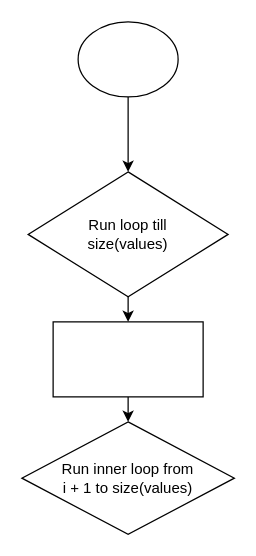
Some shapes in this 256 by 556 pixel diagram are drawn without their labels. The shapes that lost their labels are listed below. From the top down, each one's box as (x1, y1, x2, y2) in pixels, then its label:
(77, 21, 178, 97): Start
(52, 321, 203, 397): Store current iteration value and respective weight in compare map
